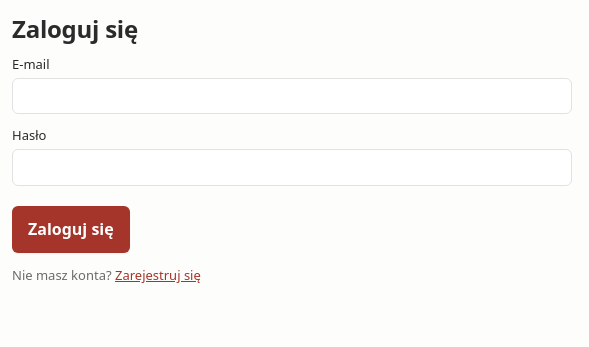
Test case: LoginPage › shows a ProblemDetails message for a non-401 ApiError
Type "user@test.pl" into the field labelled "E-mail" at (292, 96), box x1=12 y1=78 x2=572 y2=114
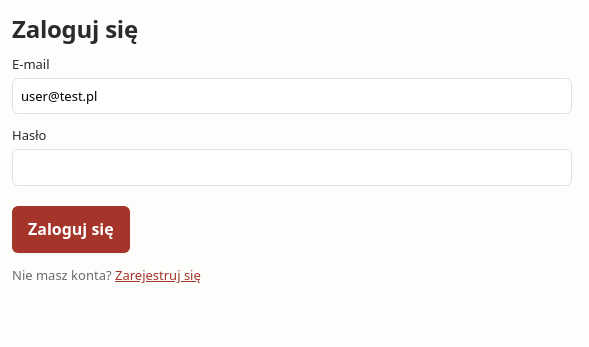
Type "password123" into the password field labelled "Hasło" at (292, 168), box x1=12 y1=149 x2=572 y2=186
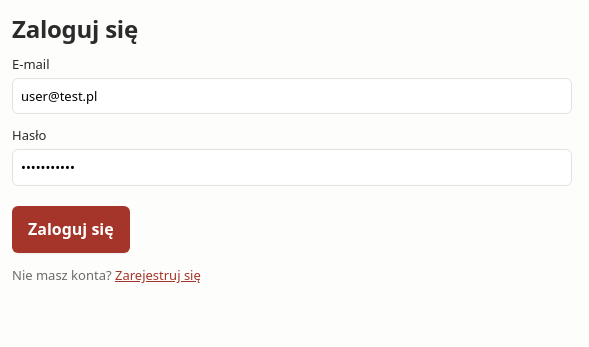
Click the button "Zaloguj się" at (71, 230), box x1=12 y1=206 x2=130 y2=253
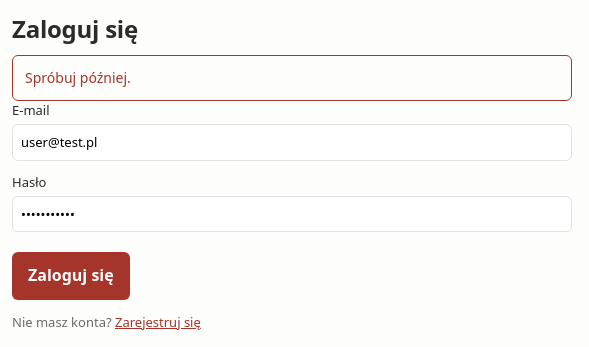
Check: the text "Spróbuj później." is shown, box x1=12 y1=55 x2=572 y2=101
